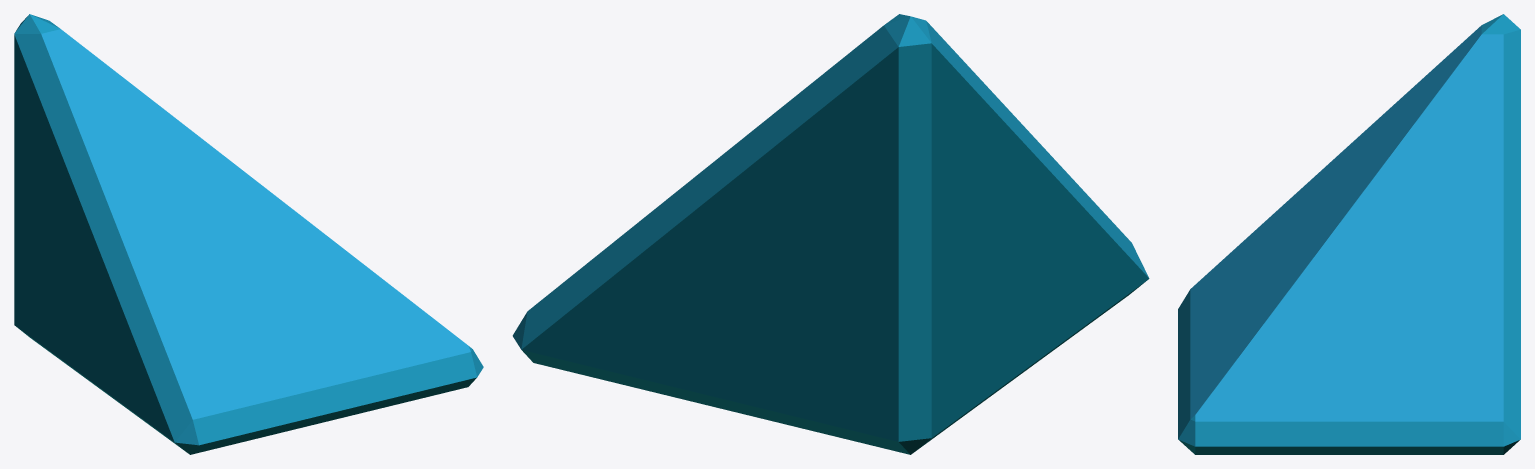
Rendered from m_kub_diagonalBlue_cornerOut.FBX.
3 views of the same model, side by side, from view 1: azimuth 30°, elevation 25°; view 2: azimuth 150°, elevation 25°; view 3: azimuth 270°, elevation 25° (orthographic). The views are drawn at different scales.
Parts seen in each view (by area): view 1: m_kub_diagonalBlue_cornerOut; view 2: m_kub_diagonalBlue_cornerOut; view 3: m_kub_diagonalBlue_cornerOut.
Part boxes in pixels (x1,y1,x2,y2): m_kub_diagonalBlue_cornerOut: [14, 14, 483, 454]; m_kub_diagonalBlue_cornerOut: [512, 14, 1149, 454]; m_kub_diagonalBlue_cornerOut: [1178, 14, 1520, 454].
Bounding box in the file's own units: 2 × 2 × 2.
